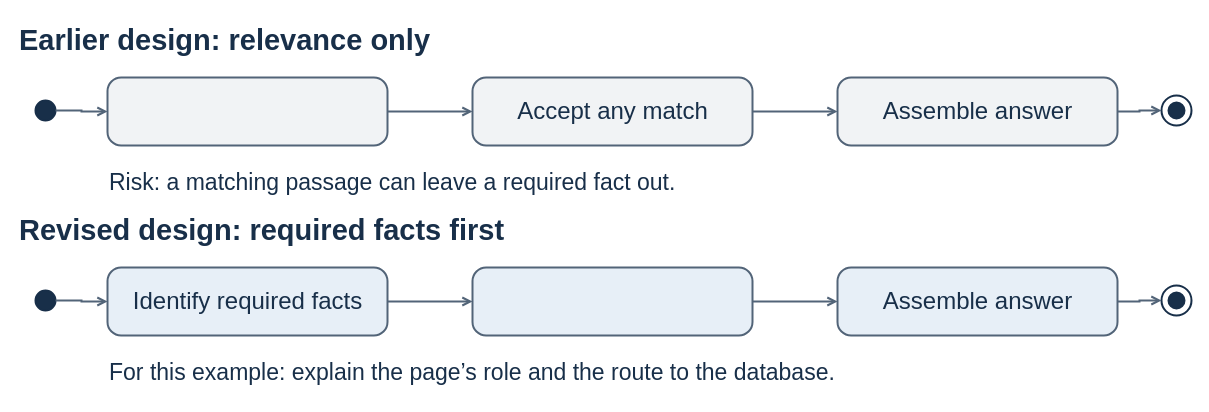
The diagram is 1209 pixels wide and 412 high, and some of its shapes have lost their labels. Each missing label, with the centre of its shape:
"Find related text" belongs at (x=247, y=111).
"Select evidence for each" belongs at (x=612, y=301).
